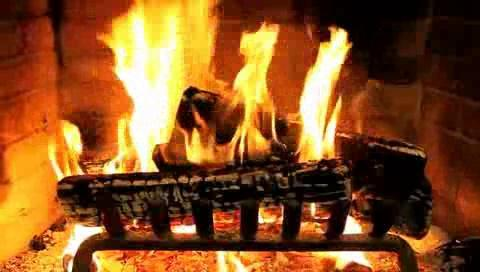fire: (13, 0, 480, 171)
